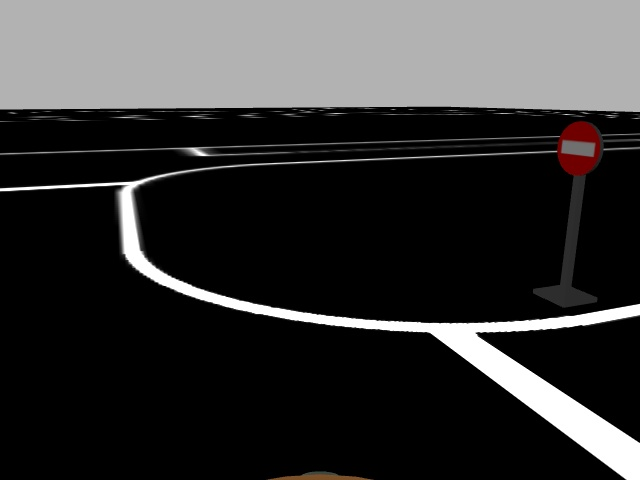prohibited: (556, 120, 602, 179)
